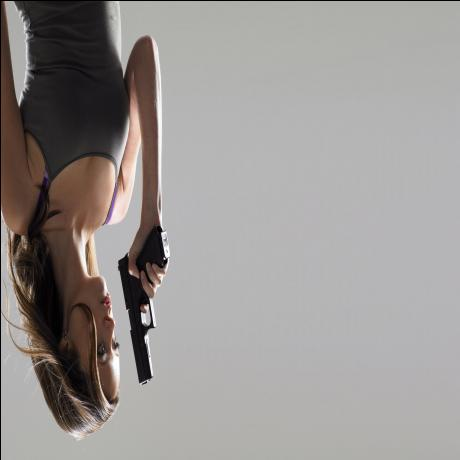1: (1, 0, 168, 438)
weapon: (117, 221, 173, 398)
